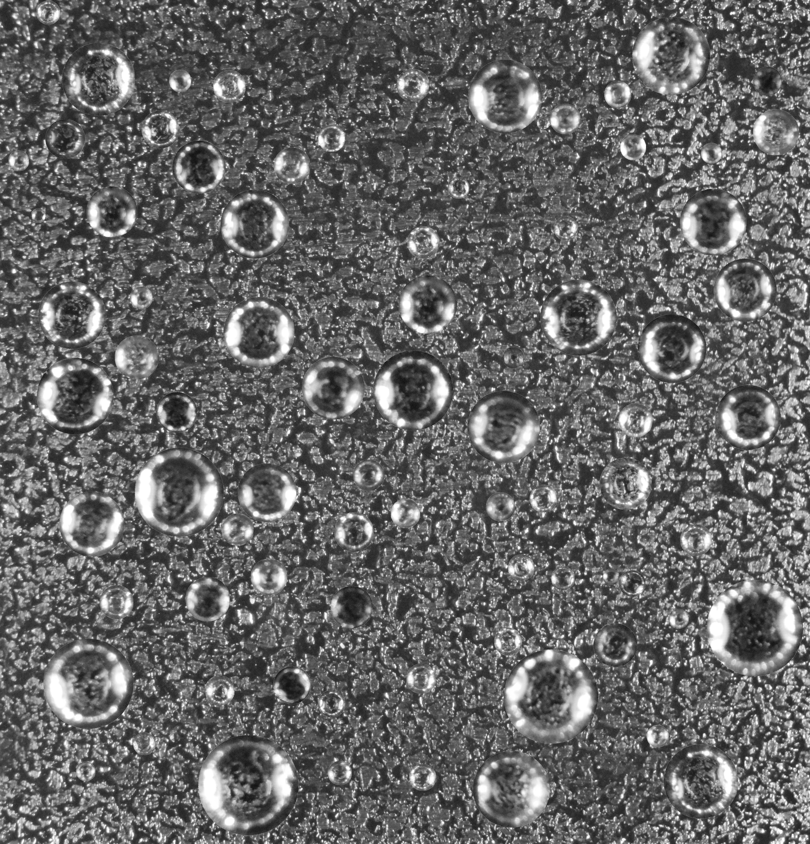Bubble: (198, 735, 298, 835), (707, 580, 803, 676), (504, 649, 598, 743), (43, 638, 133, 728), (134, 447, 223, 536), (373, 350, 453, 430), (632, 16, 710, 94), (36, 357, 113, 434), (540, 279, 616, 355), (473, 751, 549, 827), (663, 744, 738, 818), (468, 59, 541, 133), (467, 390, 539, 463), (62, 42, 134, 115), (223, 297, 294, 367), (220, 189, 289, 258), (637, 314, 706, 382), (38, 281, 105, 348), (680, 188, 746, 255), (59, 491, 124, 556), (716, 385, 780, 449), (713, 258, 776, 321), (302, 356, 364, 419), (237, 463, 296, 521), (398, 275, 456, 333), (172, 140, 225, 193), (599, 457, 651, 509), (86, 186, 137, 237), (753, 109, 799, 155), (114, 335, 158, 379), (185, 577, 229, 621), (593, 623, 637, 666), (330, 586, 372, 628), (156, 392, 197, 432), (45, 119, 84, 158), (334, 512, 373, 551), (141, 110, 179, 148), (273, 666, 310, 704), (250, 558, 287, 595), (273, 147, 310, 183), (618, 403, 652, 437), (99, 585, 133, 619), (396, 68, 429, 101), (407, 226, 439, 258), (221, 513, 253, 545), (213, 70, 245, 102), (680, 524, 711, 555), (353, 459, 384, 490), (550, 103, 580, 134), (204, 675, 234, 705), (390, 498, 420, 528), (406, 663, 436, 693), (753, 66, 782, 95), (486, 492, 514, 521), (494, 627, 522, 655), (529, 484, 557, 512), (604, 80, 631, 107), (318, 690, 345, 717), (318, 125, 345, 151), (409, 764, 436, 790), (620, 134, 646, 160), (619, 570, 645, 596), (508, 554, 534, 580), (554, 216, 578, 240), (36, 0, 60, 24), (327, 761, 351, 785), (551, 566, 574, 590), (129, 286, 152, 309), (133, 732, 155, 755), (169, 69, 191, 91), (646, 725, 668, 747), (502, 346, 524, 368), (447, 177, 469, 198), (701, 142, 721, 163), (8, 150, 28, 171), (668, 609, 688, 628), (76, 761, 95, 781), (603, 568, 619, 585), (30, 208, 45, 222), (537, 116, 549, 129)
